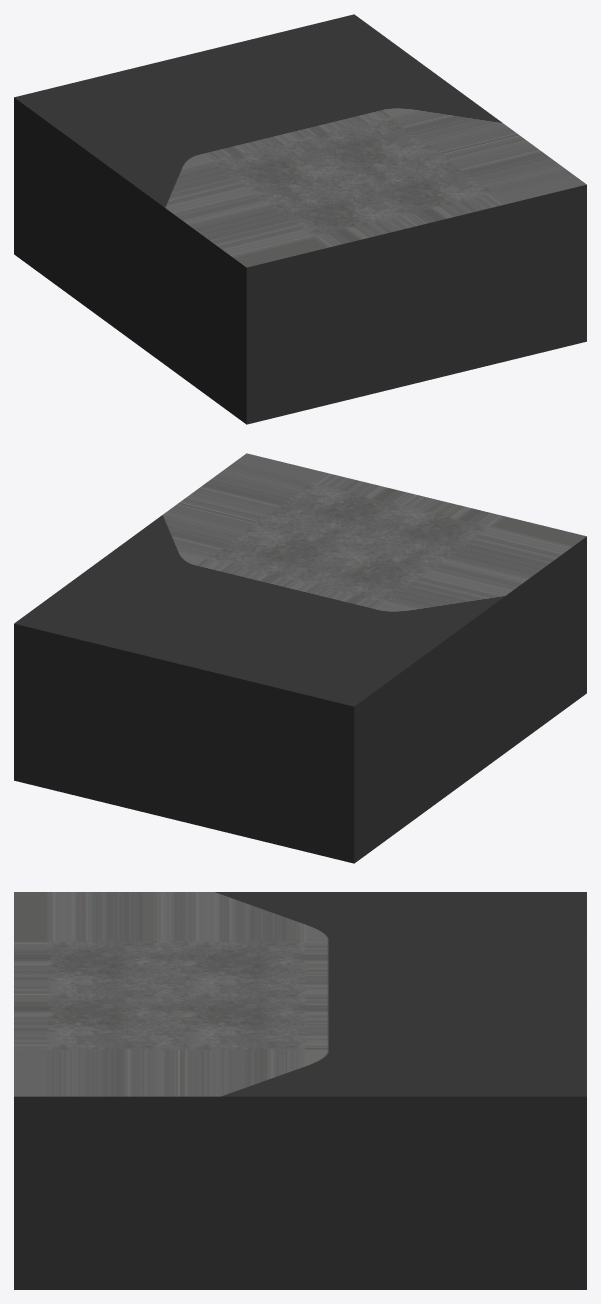
File: VR-Room.fbx
3 renders of one model, top to bottom at view 1: azimuth 30°, elevation 25°; view 2: azimuth 150°, elevation 25°; view 3: azimuth 270°, elevation 25°, orthographic. The views are drawn at different scales.
Parts seen in each view (by area): view 1: RoomWalls, Roof; view 2: RoomWalls, Roof; view 3: Roof, RoomWalls.
Part boxes in pixels (<box>): RoomWalls: <box>14,97,586,424</box>; Roof: <box>14,14,586,267</box>; RoomWalls: <box>14,536,586,863</box>; Roof: <box>14,453,586,706</box>; Roof: <box>14,892,586,1096</box>; RoomWalls: <box>14,1096,586,1289</box>.
Size of the model in its own units: 900 by 397 by 1066.
